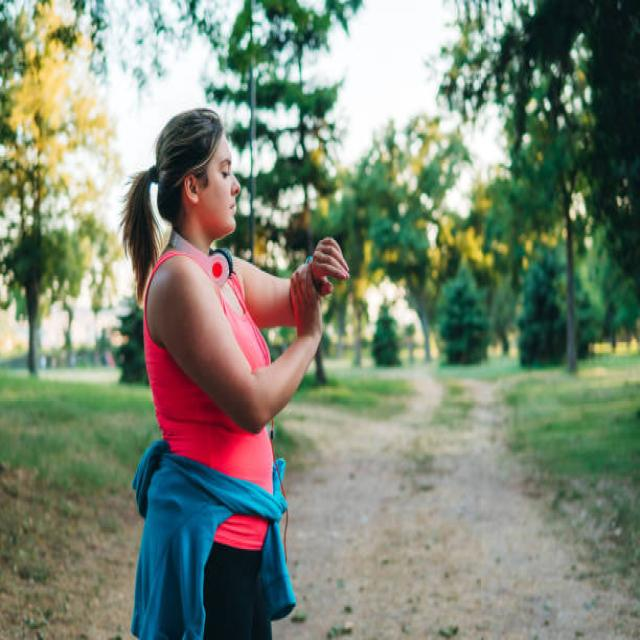Headphone: (166, 228, 234, 290)
